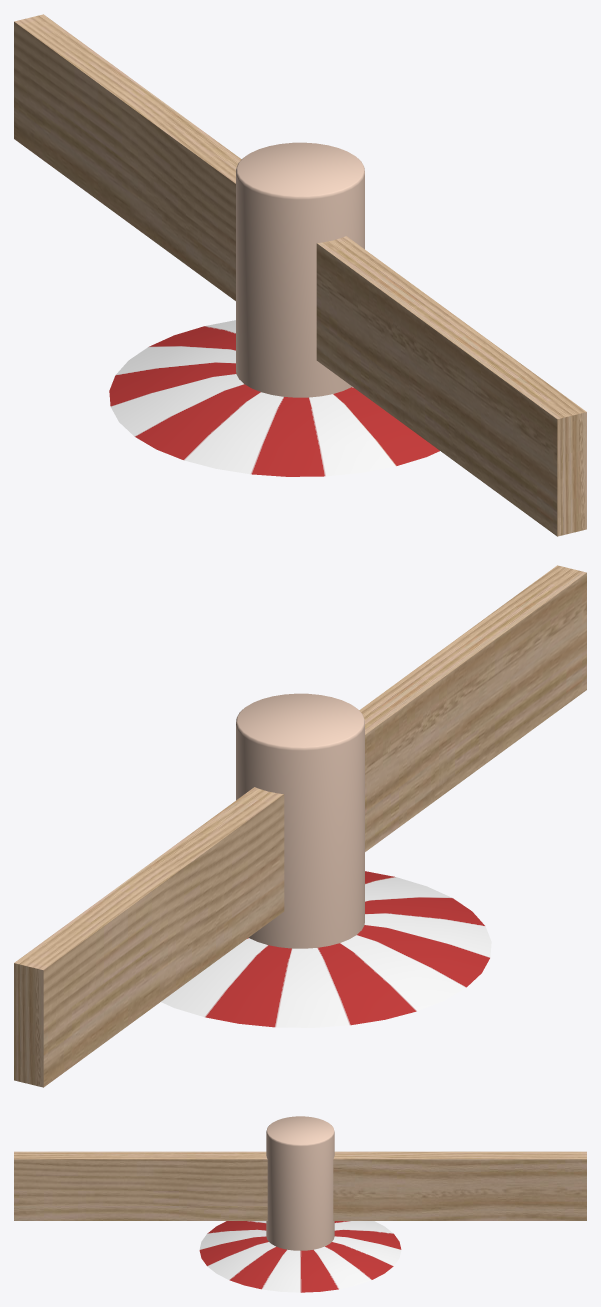
Rendered from swingyDealy.glb.
The picture shows the model from 3 angles, top to bottom: view 1: azimuth 30°, elevation 25°; view 2: azimuth 150°, elevation 25°; view 3: azimuth 270°, elevation 25°; orthographic projection. The views are drawn at different scales.
Visible parts, largest first — view 1: swingyTop, swingyBase; view 2: swingyTop, swingyBase; view 3: swingyTop, swingyBase.
Part boxes in pixels (<box>): swingyTop: <box>14,14,586,536</box>; swingyBase: <box>109,320,439,476</box>; swingyTop: <box>14,565,586,1087</box>; swingyBase: <box>161,871,491,1027</box>; swingyTop: <box>14,1116,586,1250</box>; swingyBase: <box>199,1221,401,1292</box>.
Bounding box in the file's own units: 5.92 × 3.87 × 16.78.
Materials: 1 (1 with a texture image).
